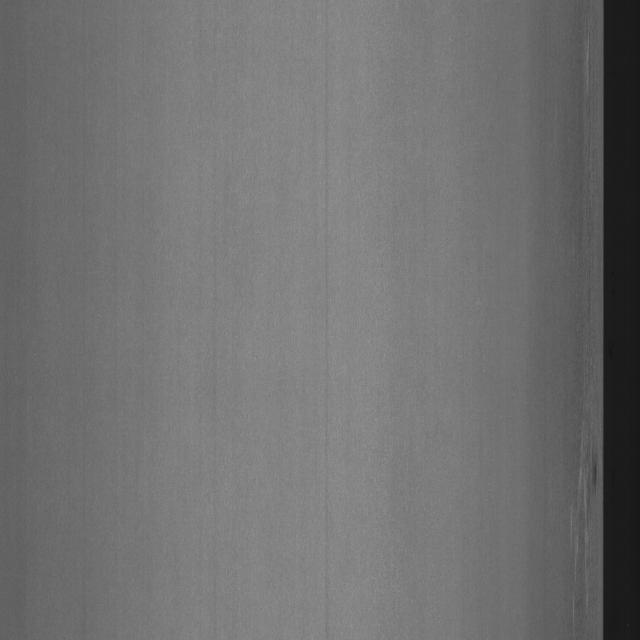inclusion: (543, 394, 597, 614)
